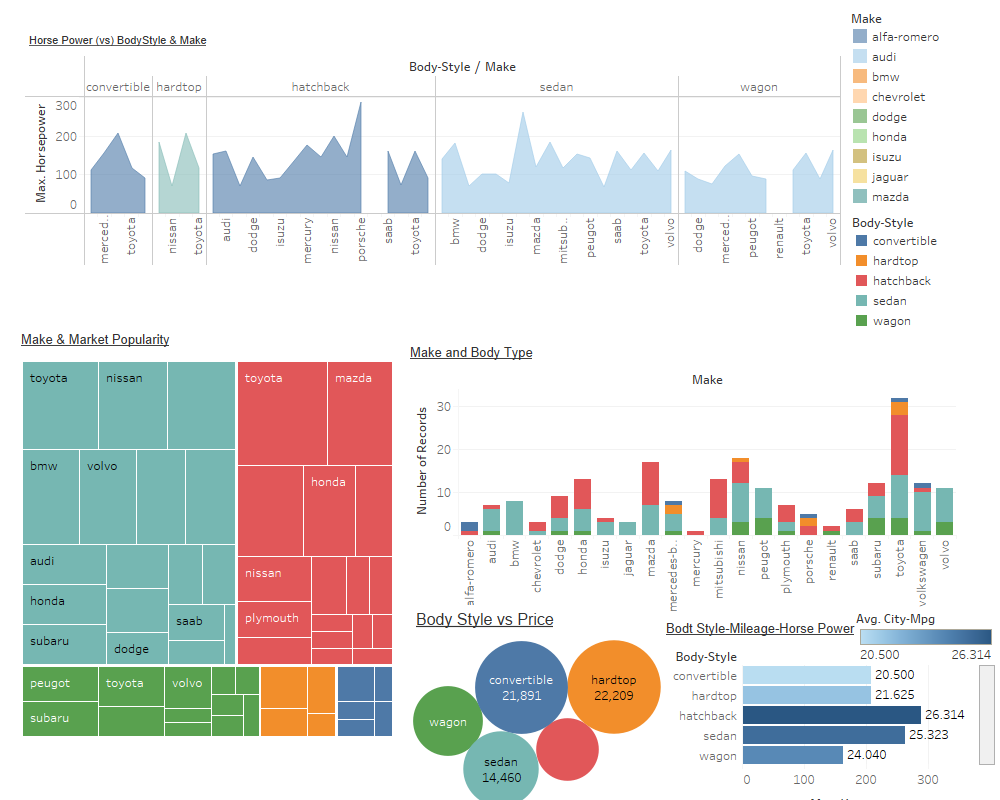

The page's visual inventory and layout, read from the dashboard file:
{"tool":"tableau","page":{"name":"Dashboard 1","canvas":[1000,800],"ordinal":0},"visuals":[{"type":"legend","title":"Sheet 3","param":"[federated.107ljcp1lgq88c1fh3zr21ri1k27].[none:make:nk]","box":[850,8,140,201]},{"type":"worksheet","title":"Sheet 3","mark":"Area","rows":["horsepower"],"cols":["body-style","make"],"box":[25,28,816,239]},{"type":"legend","title":"Sheet 4","param":"[federated.107ljcp1lgq88c1fh3zr21ri1k27].[none:body-style:nk]","box":[851,212,140,118]},{"type":"worksheet","title":"Sheet 4","mark":"Automatic","box":[17,326,380,415]},{"type":"worksheet","title":"Sheet 5","mark":"Automatic","rows":["Number of Records"],"cols":["make"],"box":[406,339,550,276]},{"type":"legend","title":"Sheet 7","param":"[federated.107ljcp1lgq88c1fh3zr21ri1k27].[avg:city-mpg:qk]","box":[856,606,140,54]}]}

Visuals, with their boxes in screenshot pixels (x1, y1, x2, y2), scaled from the page's 1000x800 canvas onto the 1000x800 screenshot:
"Sheet 3" legend: 850:8:990:209
"Sheet 3" worksheet (Area marks): 25:28:841:267
"Sheet 4" legend: 851:212:991:330
"Sheet 4" worksheet: 17:326:397:741
"Sheet 5" worksheet: 406:339:956:615
"Sheet 7" legend: 856:606:996:660
